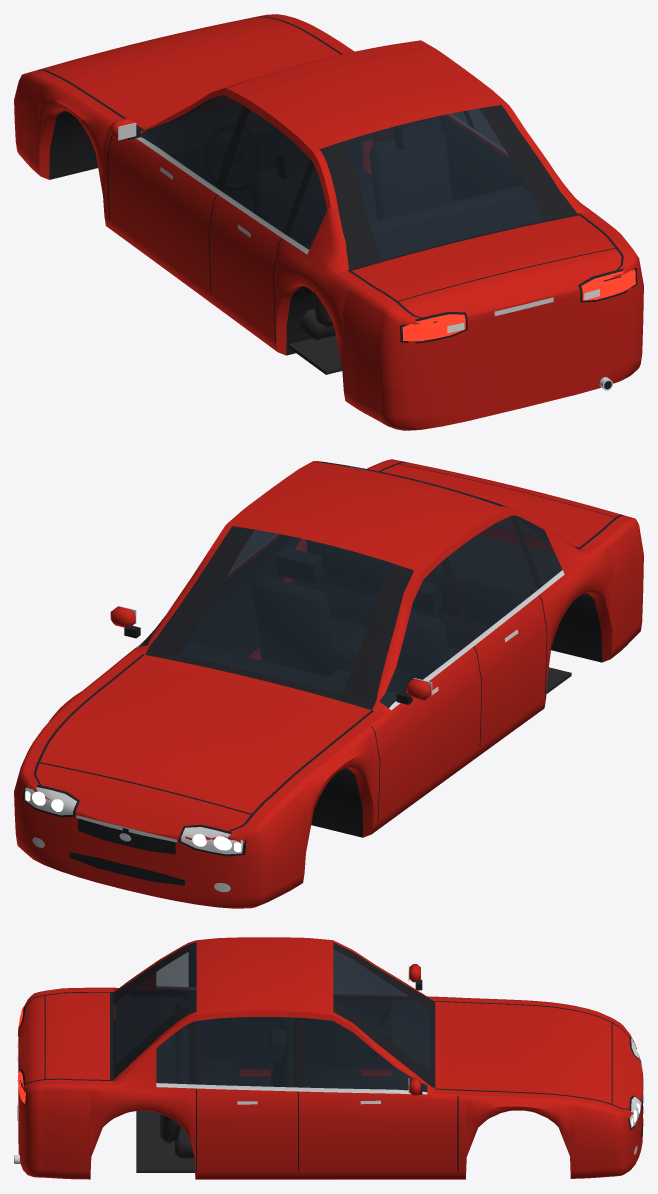
Rendered from sedan_body.glb.
The picture shows the model from 3 angles, top to bottom: view 1: azimuth 30°, elevation 25°; view 2: azimuth 150°, elevation 25°; view 3: azimuth 270°, elevation 25°; orthographic projection. The views are drawn at different scales.
Parts seen in each view (by area): view 1: SedanBody, RearBumper; view 2: SedanBody, FrontBumper, RearBumper; view 3: SedanBody, RearBumper, FrontBumper.
Part boxes in pixels (left/top/right/bottom): SedanBody: left=14, top=14, right=643, bottom=408; RearBumper: left=354, top=322, right=643, bottom=430; SedanBody: left=14, top=459, right=643, bottom=890; FrontBumper: left=14, top=814, right=292, bottom=908; RearBumper: left=621, top=590, right=643, bottom=650; SedanBody: left=14, top=937, right=643, bottom=1179; RearBumper: left=17, top=1105, right=73, bottom=1179; FrontBumper: left=588, top=1106, right=643, bottom=1178.
Size of the model in its own units: 2.15 by 1.34 by 4.7.
